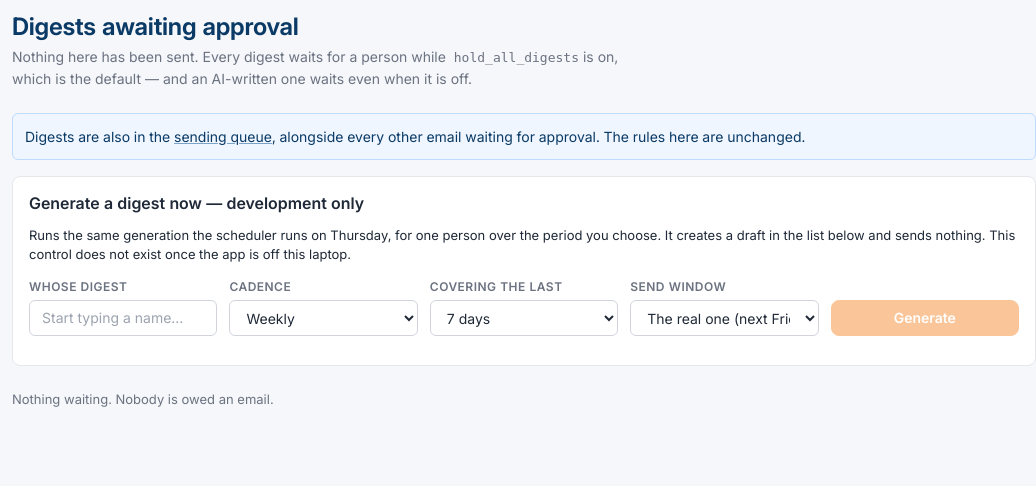
Test: the digest approval screen › generates for the chosen person, period and send window
The image size is (1036, 486).
Step 1. Type "Dana" into the field named "Find a stakeholder" → (123, 318), box x1=29 y1=300 x2=217 y2=336
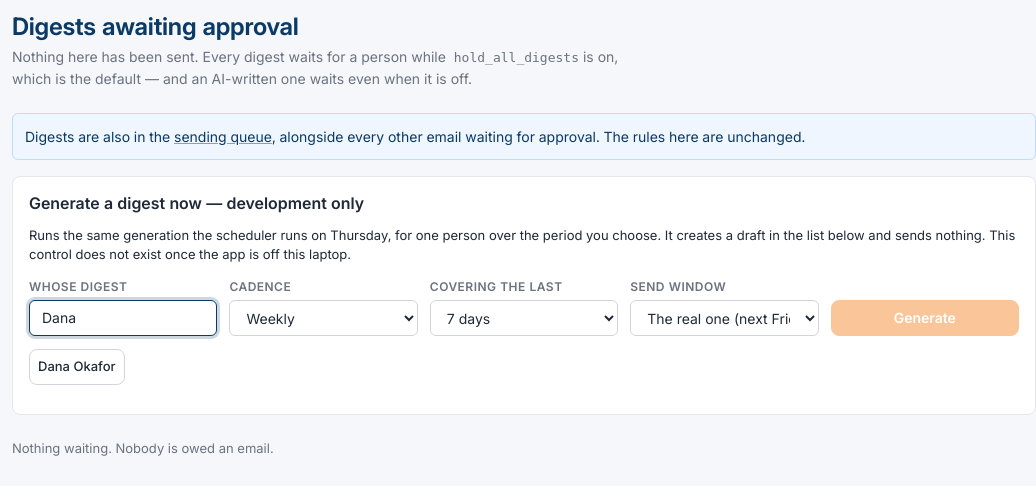
Step 2. Click the button "Dana Okafor" → (77, 366), box x1=29 y1=348 x2=124 y2=384
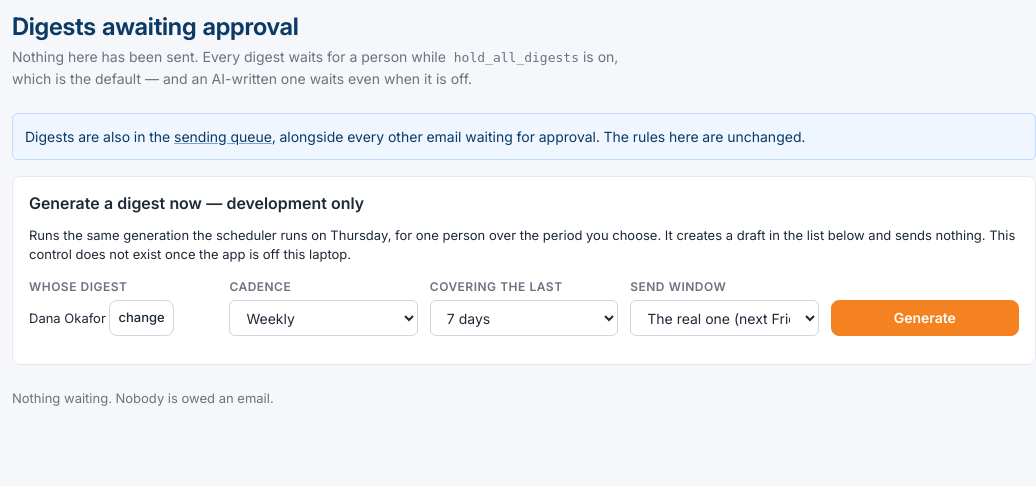
Step 3. Select "30 days" in the dropdown named "Period in days" → (524, 318), box x1=430 y1=300 x2=618 y2=336
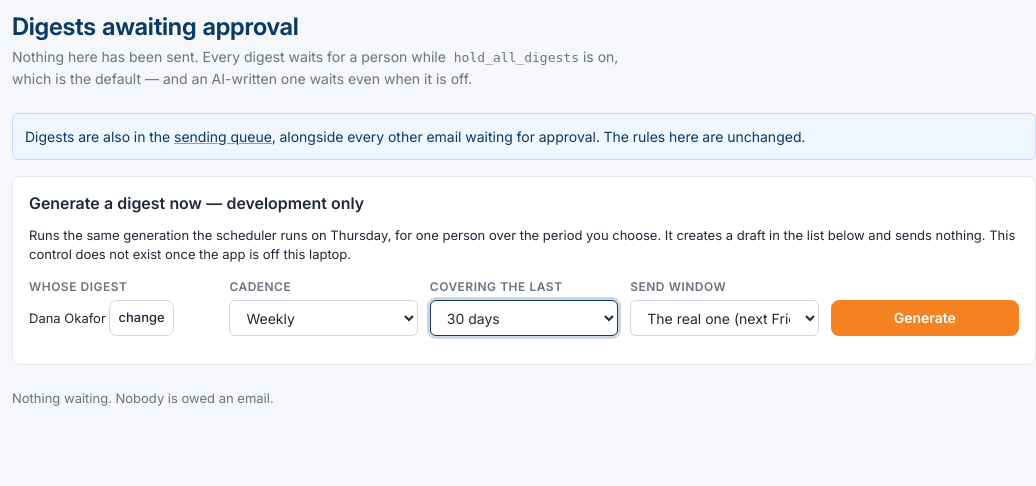
Step 4. Select "In 2 minutes — to watch it go late or send" in the dropdown named "Send window" → (724, 318), box x1=630 y1=300 x2=819 y2=336
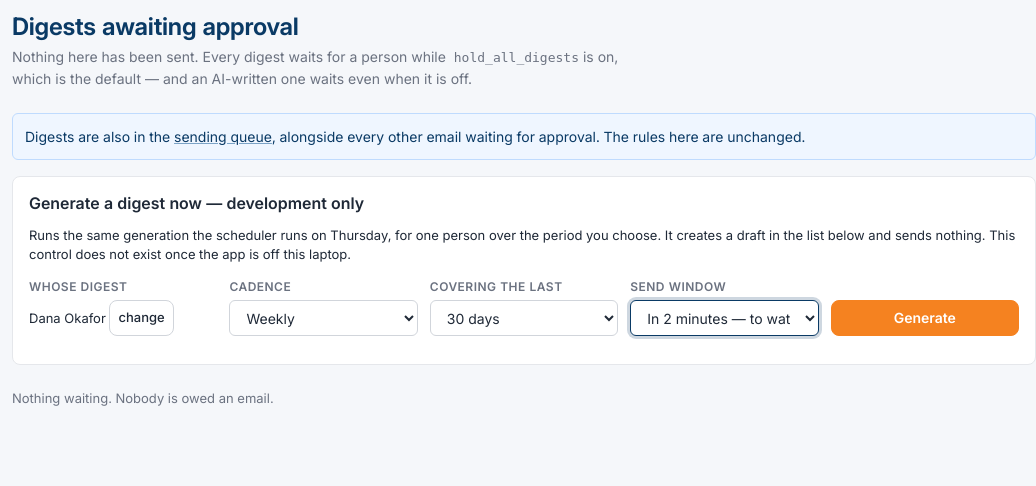
Step 5. Click the button "Generate" → (925, 318), box x1=831 y1=300 x2=1019 y2=336
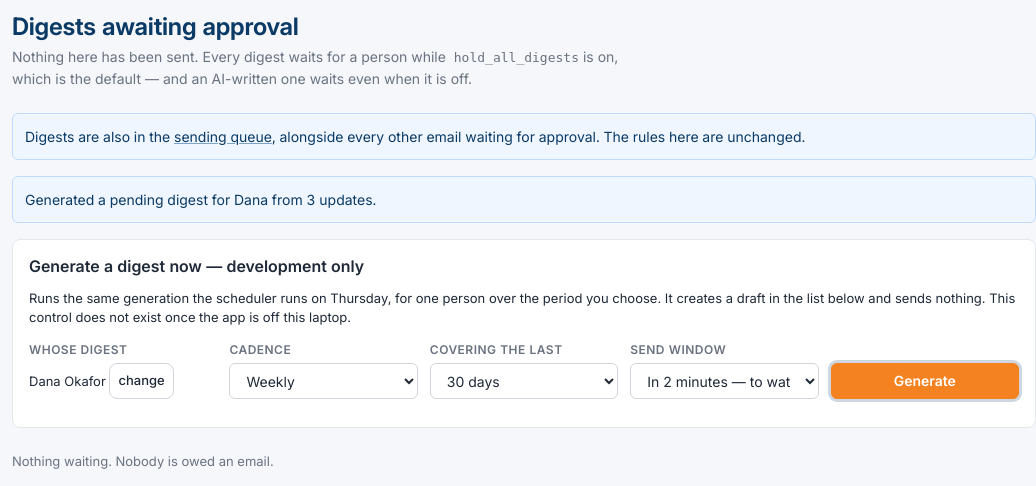
Expected: the text "Generated a pending digest for Dana from 3 updates." is shown, x1=25 y1=190 x2=376 y2=208
